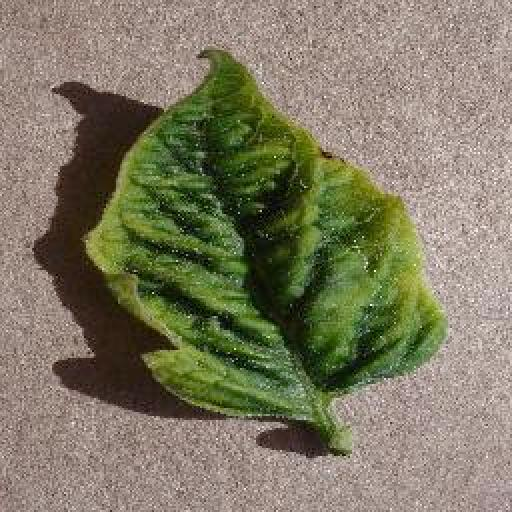disease_tomato: (86, 48, 448, 422)
